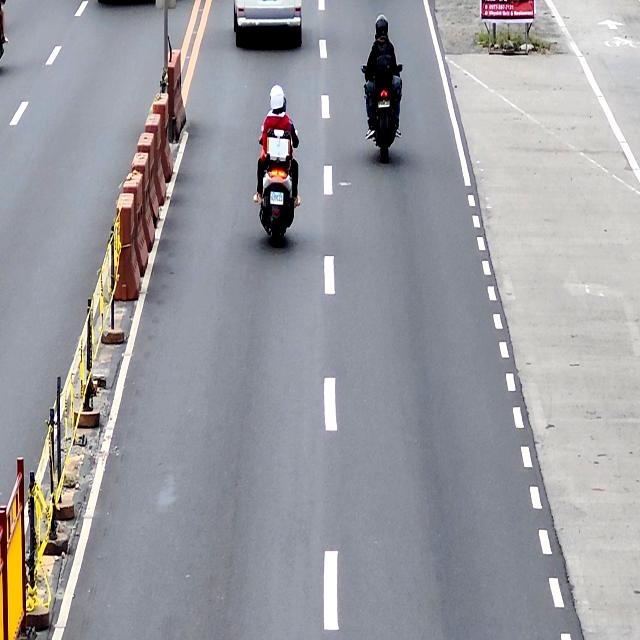License-Plate: (269, 192, 284, 206), (378, 100, 390, 110)
Motorcycle: (258, 122, 297, 247), (366, 51, 402, 161)
